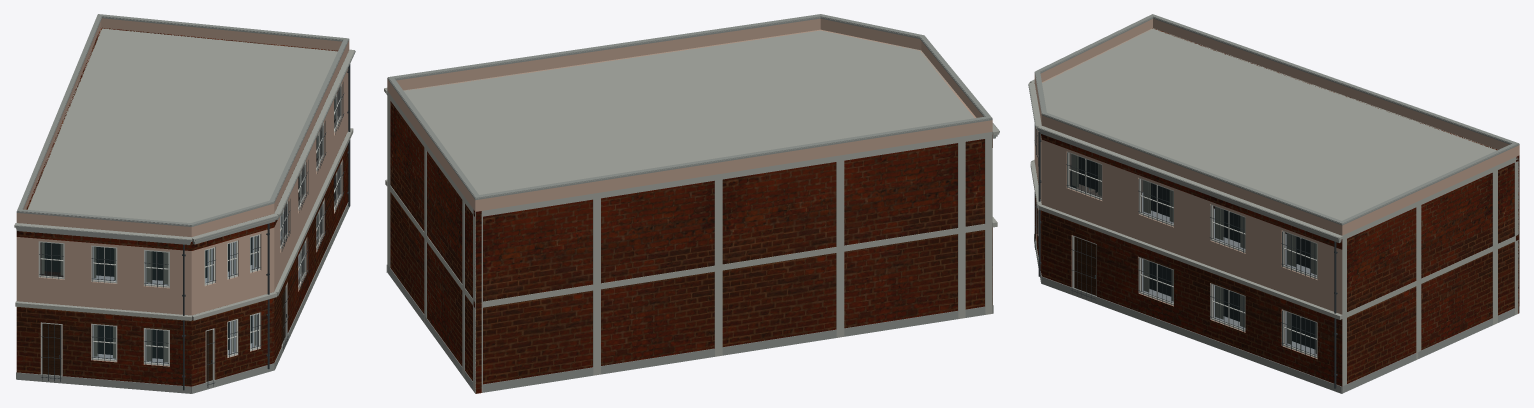
Rendered from building.glb.
The picture shows the model from 3 angles, left to right: view 1: azimuth 30°, elevation 25°; view 2: azimuth 150°, elevation 25°; view 3: azimuth 270°, elevation 25°; orthographic projection. The views are drawn at different scales.
Parts seen in each view (by area): view 1: roof/main:0/roof_slab#0001, main:0/edge0/z0/main:0/edge0/z0/wall_0_0, main:0/edge0/z0/main:0/edge0/z0/coating_0_0_0, roof/main:0/parapet#0001, main:0/edge1/z0/main:0/edge1/z0/wall_0_0, main:0/edge2/z0/main:0/edge2/z0/wall_0_0, main:0/edge1/z0/main:0/edge1/z0/coating_0_0_0, roof/main:0/parapet_cap#0002, main:0/edge2/z0/main:0/edge2/z0/coating_0_0_0, roof/main:0/parapet_cap#0001, main:0/edge0/z0/plinth#0001, main:0/edge0/z0/main:0/edge0/z0/coating_0_1_0 (+27 smaller); view 2: main:0/edge4/z0/main:0/edge4/z0/wall_0_0/core0, roof/main:0/roof_slab#0001, roof/main:0/parapet#0001, main:0/edge3/z0/main:0/edge3/z0/wall_0_0/core0, roof/main:0/parapet_cap#0002, main:0/edge4/z0/plinth#0001, main:0/edge4/z0/main:0/edge4/z0/beam_0_0/core0, main:0/edge4/z0/main:0/edge4/z0/beam_1_0/core0, roof/main:0/parapet_cap#0001, main:0/edge3/z0/main:0/edge3/z0/wall_0_0/clip1, main:0/edge3/z0/plinth#0001, main:0/edge4/z0/main:0/edge4/z0/column_3_0 (+12 smaller); view 3: roof/main:0/roof_slab#0001, main:0/edge3/z0/main:0/edge3/z0/wall_0_0/core0, main:0/edge2/z0/main:0/edge2/z0/wall_0_0, main:0/edge2/z0/main:0/edge2/z0/coating_0_0_0, roof/main:0/parapet#0001, roof/main:0/parapet_cap#0002, main:0/edge2/z0/plinth#0001, roof/main:0/parapet_cap#0001, main:0/edge2/z0/floor_slab#0001, main:0/edge2/z0/main:0/edge2/z0/coating_0_1_0, main:0/edge2/z0/top_cornice#0001, main:0/edge3/z0/plinth#0001 (+21 smaller).
Boxes of the visible parts, x1,y1,x2,y2 form: roof/main:0/roof_slab#0001: (26,27,337,222); main:0/edge0/z0/main:0/edge0/z0/wall_0_0: (16,237,191,373); main:0/edge0/z0/main:0/edge0/z0/coating_0_0_0: (16,307,191,386); roof/main:0/parapet#0001: (16,18,349,237); main:0/edge1/z0/main:0/edge1/z0/wall_0_0: (191,227,274,379); main:0/edge2/z0/main:0/edge2/z0/wall_0_0: (274,68,348,330); main:0/edge1/z0/main:0/edge1/z0/coating_0_0_0: (191,298,274,386); roof/main:0/parapet_cap#0002: (17,14,348,225); main:0/edge2/z0/main:0/edge2/z0/coating_0_0_0: (274,144,348,362); roof/main:0/parapet_cap#0001: (16,15,349,226); main:0/edge0/z0/plinth#0001: (16,372,191,393); main:0/edge0/z0/main:0/edge0/z0/coating_0_1_0: (16,230,191,250); main:0/edge4/z0/main:0/edge4/z0/wall_0_0/core0: (483,139,984,384); roof/main:0/roof_slab#0001: (387,30,992,194); roof/main:0/parapet#0001: (387,18,992,211); main:0/edge3/z0/main:0/edge3/z0/wall_0_0/core0: (390,101,472,380); roof/main:0/parapet_cap#0002: (388,14,991,198); main:0/edge4/z0/plinth#0001: (482,306,985,392); main:0/edge4/z0/main:0/edge4/z0/beam_0_0/core0: (475,223,992,308); main:0/edge4/z0/main:0/edge4/z0/beam_1_0/core0: (475,132,992,217); roof/main:0/parapet_cap#0001: (387,17,992,200); main:0/edge3/z0/main:0/edge3/z0/wall_0_0/clip1: (476,211,481,393); main:0/edge3/z0/plinth#0001: (387,265,472,389); main:0/edge4/z0/main:0/edge4/z0/column_3_0: (714,179,722,265); roof/main:0/roof_slab#0001: (1042,28,1518,238); main:0/edge3/z0/main:0/edge3/z0/wall_0_0/core0: (1347,163,1514,383); main:0/edge2/z0/main:0/edge2/z0/wall_0_0: (1041,140,1342,358); main:0/edge2/z0/main:0/edge2/z0/coating_0_0_0: (1041,211,1342,386); roof/main:0/parapet#0001: (1034,18,1519,235); roof/main:0/parapet_cap#0002: (1035,14,1518,223); main:0/edge2/z0/plinth#0001: (1041,276,1342,393); roof/main:0/parapet_cap#0001: (1034,17,1519,225); main:0/edge2/z0/floor_slab#0001: (1038,204,1342,319); main:0/edge2/z0/main:0/edge2/z0/coating_0_1_0: (1041,134,1342,249); main:0/edge2/z0/top_cornice#0001: (1037,126,1342,240); main:0/edge3/z0/plinth#0001: (1342,308,1514,392).
Bounding box in the file's own units: 18.02 × 6.67 × 17.48.
10 materials, 2 textured.
